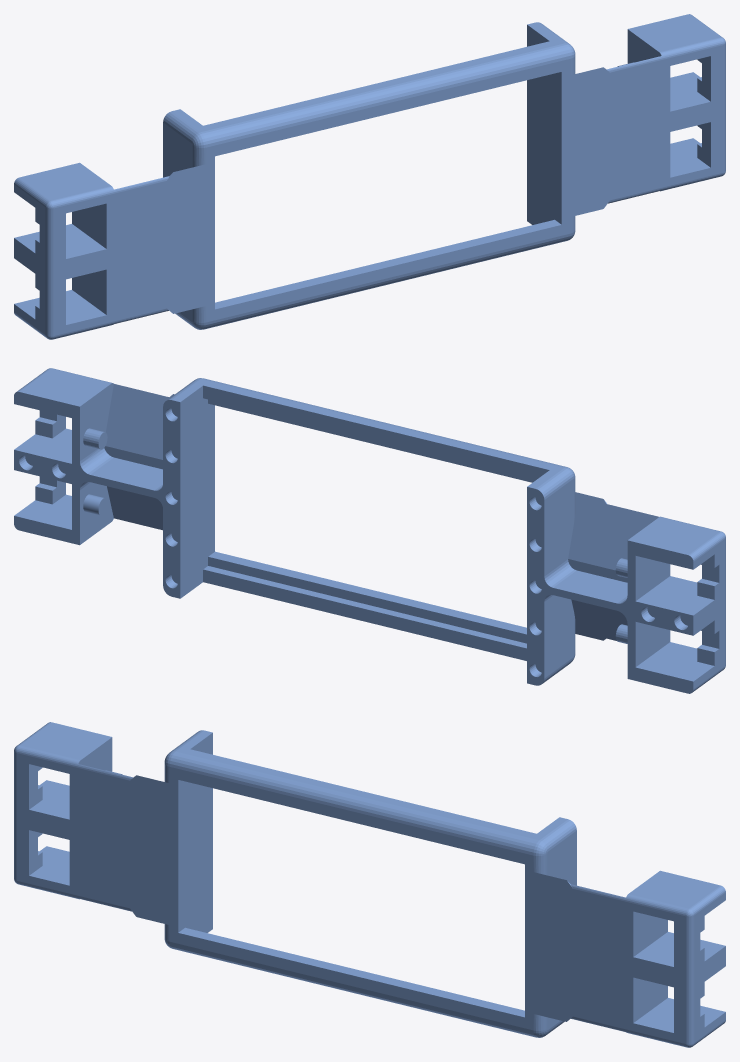
File: shell0_5.gltf
3 views of the same model, one above another, from view 1: azimuth 30°, elevation 25°; view 2: azimuth 150°, elevation 25°; view 3: azimuth 330°, elevation 25° (orthographic).
Parts seen in each view (by area): view 1: mesh3836, mesh3730, mesh3721, mesh3440, mesh3851, mesh3585, mesh3226, mesh3678, mesh3686, mesh3679, mesh3685, mesh3343 (+12 smaller); view 2: mesh4110, mesh3934, mesh3730, mesh3728, mesh3437, mesh3610, mesh3768, mesh3439, mesh3721, mesh3440, mesh3695, mesh3851 (+20 smaller); view 3: mesh3836, mesh3731, mesh3721, mesh3440, mesh3817, mesh3226, mesh3585, mesh3678, mesh3686, mesh3679, mesh3685, mesh3343 (+12 smaller).
Part boxes in pixels (x1=…): mesh3836: x1=54, y1=45, x2=722, y2=335; mesh3730: x1=527, y1=25, x2=561, y2=224; mesh3721: x1=172, y1=22, x2=563, y2=132; mesh3440: x1=215, y1=219, x2=561, y2=309; mesh3851: x1=14, y1=184, x2=45, y2=334; mesh3585: x1=19, y1=162, x2=110, y2=200; mesh3226: x1=628, y1=14, x2=719, y2=52; mesh3678: x1=206, y1=53, x2=570, y2=144; mesh3686: x1=205, y1=50, x2=569, y2=141; mesh3679: x1=206, y1=56, x2=570, y2=147; mesh3685: x1=203, y1=47, x2=568, y2=138; mesh3343: x1=206, y1=234, x2=570, y2=324; mesh4110: x1=527, y1=487, x2=693, y2=693; mesh3934: x1=14, y1=392, x2=180, y2=598; mesh3730: x1=180, y1=386, x2=214, y2=598; mesh3728: x1=203, y1=385, x2=549, y2=479; mesh3437: x1=203, y1=569, x2=526, y2=660; mesh3610: x1=568, y1=504, x2=658, y2=569; mesh3768: x1=106, y1=384, x2=169, y2=459; mesh3439: x1=208, y1=557, x2=526, y2=643; mesh3721: x1=172, y1=379, x2=563, y2=488; mesh3440: x1=208, y1=551, x2=526, y2=634; mesh3695: x1=544, y1=479, x2=573, y2=576; mesh3851: x1=693, y1=539, x2=725, y2=689; mesh3836: x1=17, y1=753, x2=685, y2=1043; mesh3731: x1=178, y1=733, x2=212, y2=932; mesh3721: x1=176, y1=730, x2=567, y2=840; mesh3440: x1=178, y1=927, x2=524, y2=1017; mesh3817: x1=694, y1=892, x2=725, y2=1042; mesh3226: x1=629, y1=870, x2=720, y2=908; mesh3585: x1=20, y1=722, x2=111, y2=760; mesh3678: x1=169, y1=761, x2=533, y2=852; mesh3686: x1=170, y1=758, x2=534, y2=849; mesh3679: x1=169, y1=764, x2=533, y2=855; mesh3685: x1=171, y1=755, x2=536, y2=846; mesh3343: x1=169, y1=942, x2=533, y2=1032.
Size of the model in its own units: 0.196 by 0.0542 by 0.0174.
